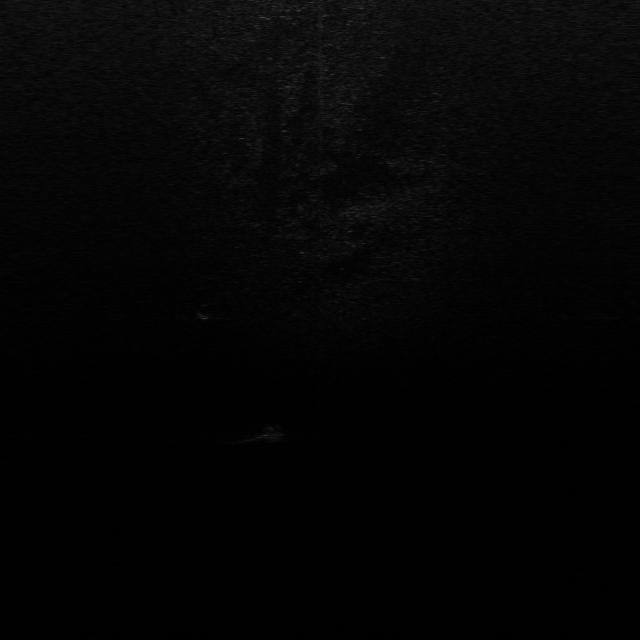ball: (260, 422, 290, 443)
circle cage: (196, 302, 217, 321)
